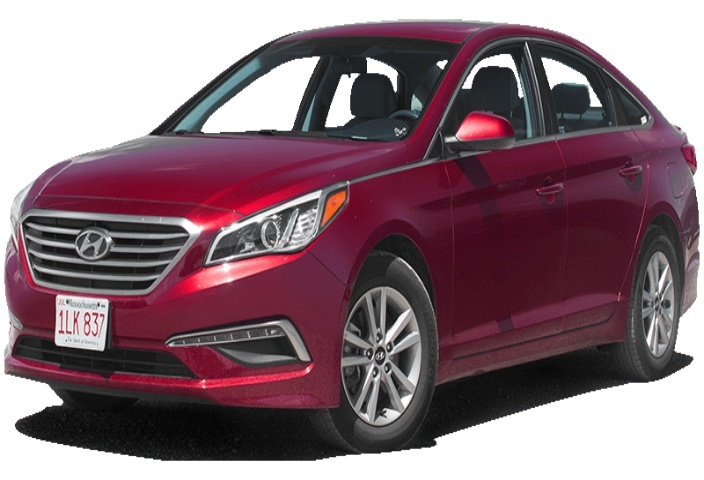car: (2, 4, 704, 433)
